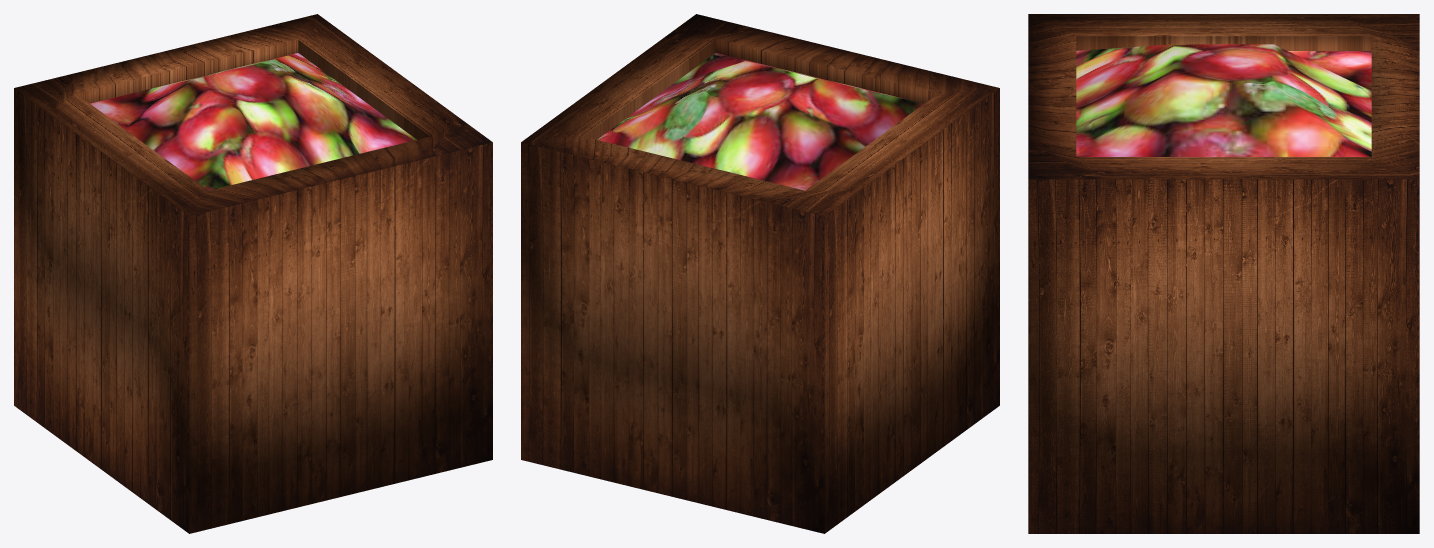
Rendered from apple.FBX.
3 views of the same model, side by side, from view 1: azimuth 30°, elevation 25°; view 2: azimuth 150°, elevation 25°; view 3: azimuth 270°, elevation 25° (orthographic). The views are drawn at different scales.
Parts seen in each view (by area): view 1: Box001; view 2: Box001; view 3: Box001.
Part boxes in pixels (<box>): Box001: <box>14,14,492,533</box>; Box001: <box>521,14,999,533</box>; Box001: <box>1028,14,1419,533</box>.
Bounding box in the file's own units: 100 × 109 × 100.
2 materials, 2 textured.
